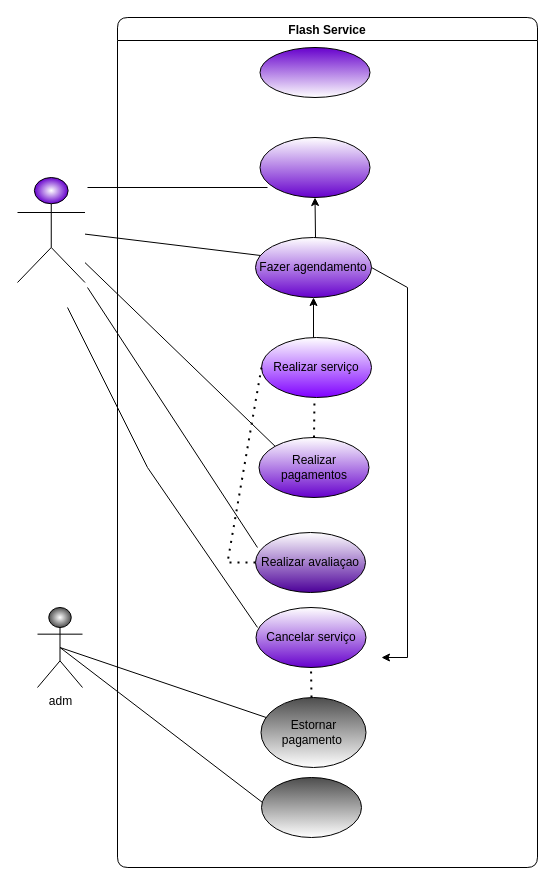
This 555x885 diagram has some shape labels left out. The shapes that lost their labels are listed below. From the top down, each one's centre as x and y in pixels, then its label:
At point 314,72: "Fazer cadastro".
At point 314,167: "Logar no sistema".
At point 50,229: "Usuario".
At point 311,807: "Controle de dados".
